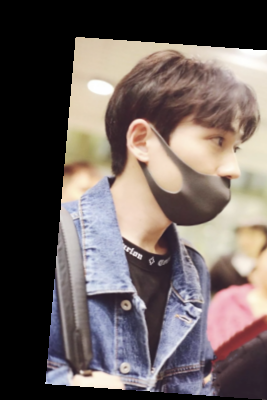mask_weared_incorrect: (102, 45, 263, 236)
